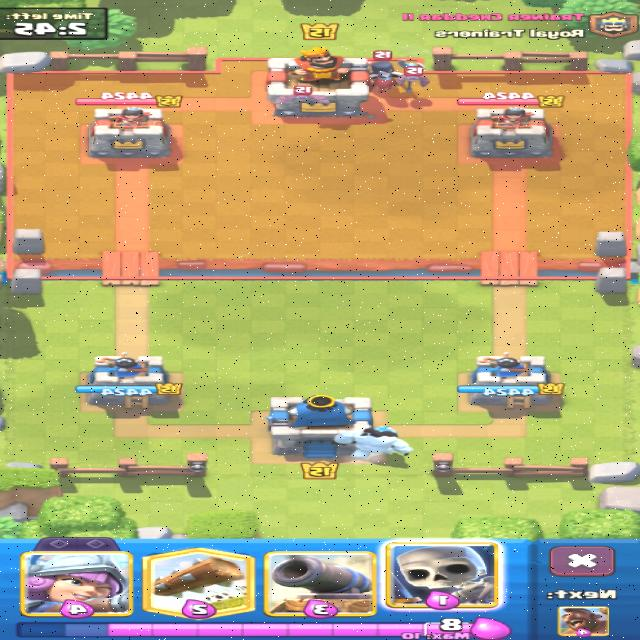Enemy-Bat: (397, 60, 430, 92), (276, 86, 329, 104)
Enemy-KingTower: (267, 46, 369, 118)
Enemy-NightWitch: (370, 51, 410, 92)
Enemy-PrincessTower: (472, 106, 551, 158), (90, 106, 169, 156)
Player-IceGolem: (335, 426, 413, 457)
Player-KingTower: (267, 395, 373, 458)
Player-PrincessTower: (458, 353, 564, 407), (86, 355, 181, 408)
